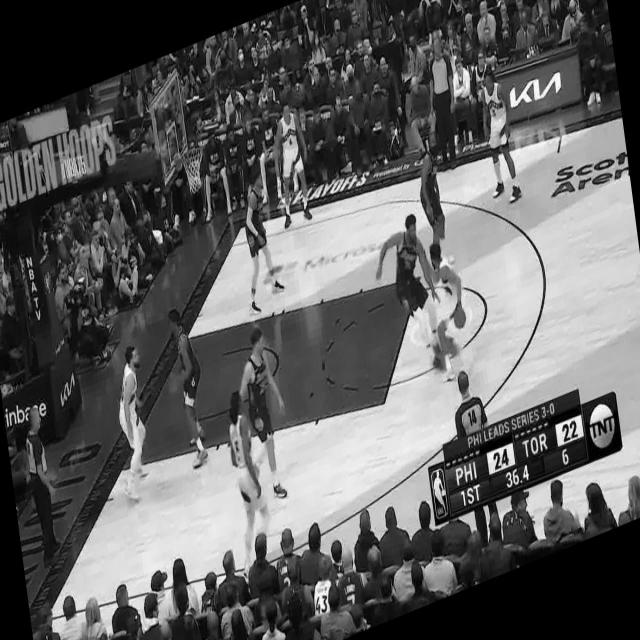ball-handler: (422, 225, 478, 389)
